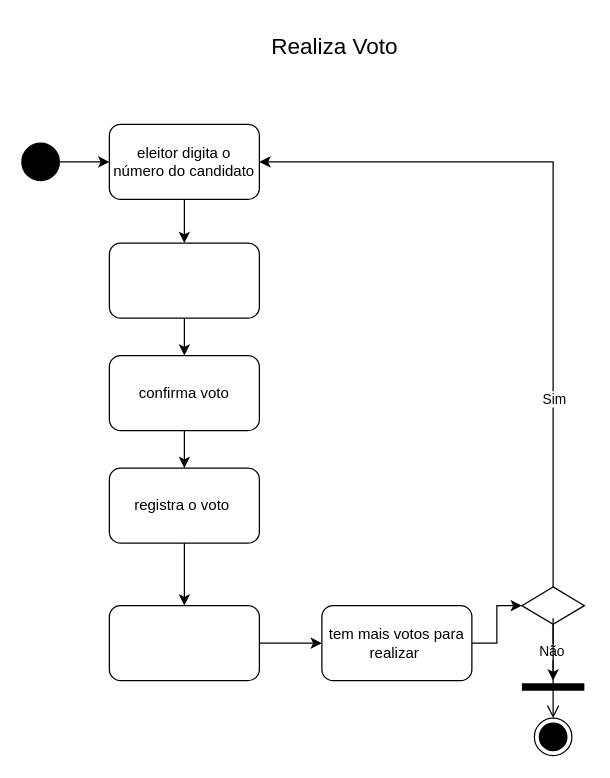
This 610x778 diagram has some shape labels left out. The shapes that lost their labels are listed below. From the top down, each one's centre as x and y in pixels, then its label:
At point (183, 280): "urna mostra as informações do número digitado".
At point (183, 642): "urna emite um som de confirmação".
